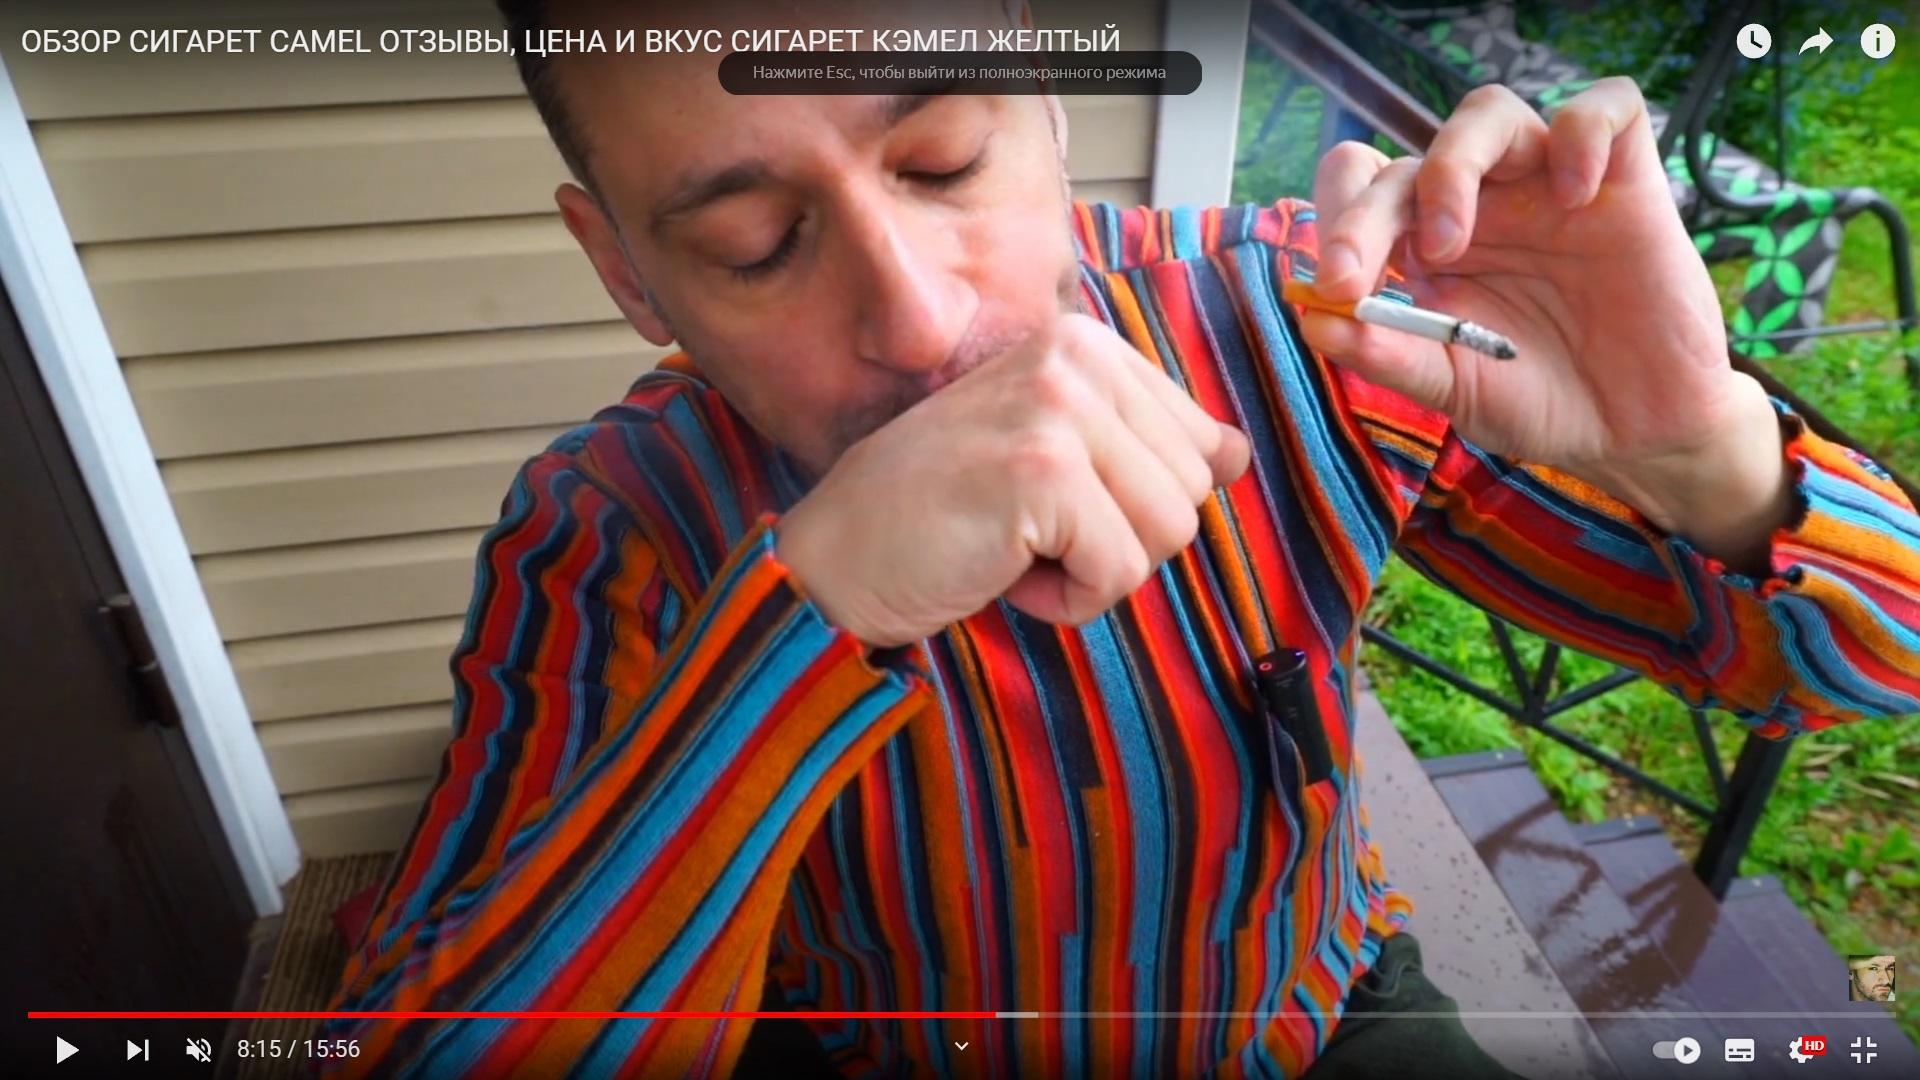cigarette: (1282, 278, 1519, 360)
